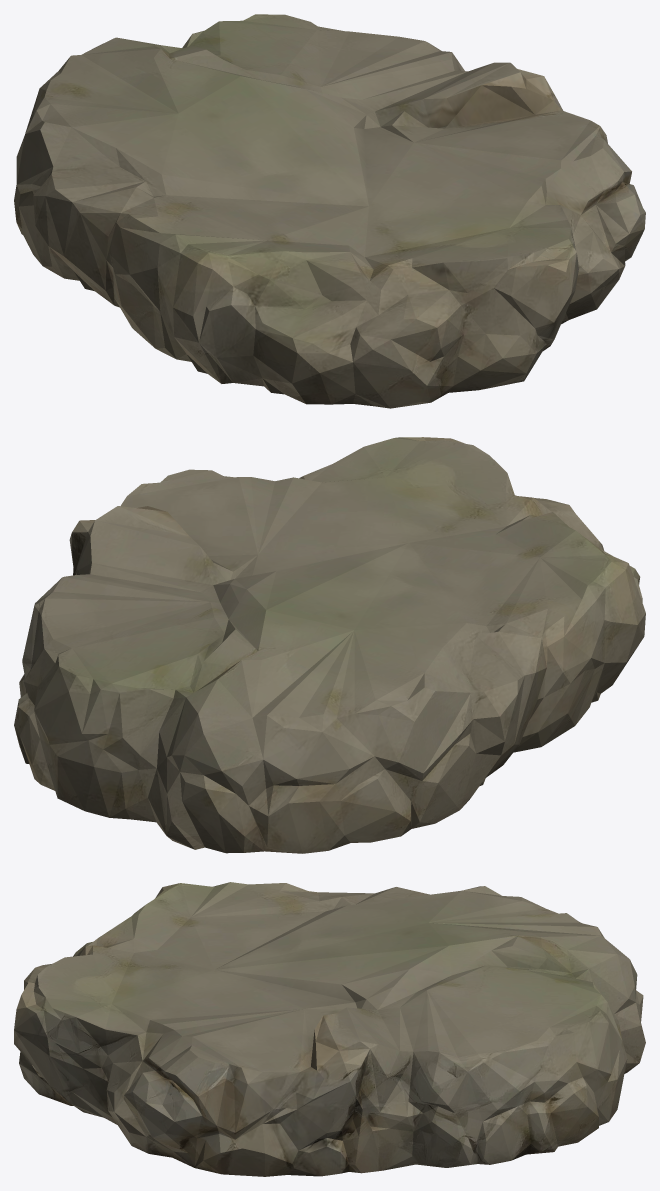
File: bloc_rocheux_couronne.glb
The picture shows the model from 3 angles, top to bottom: view 1: azimuth 30°, elevation 25°; view 2: azimuth 150°, elevation 25°; view 3: azimuth 270°, elevation 25°; orthographic projection. The views are drawn at different scales.
Parts seen in each view (by area): view 1: bloc_rocheux_couronne; view 2: bloc_rocheux_couronne; view 3: bloc_rocheux_couronne.
Boxes of the visible parts, box(x1,y1,x2,y2) form: bloc_rocheux_couronne: box(14, 14, 645, 408); bloc_rocheux_couronne: box(14, 437, 645, 853); bloc_rocheux_couronne: box(14, 882, 645, 1176).
Size of the model in its own units: 1.53 by 0.4658 by 2.
Materials: 1 (1 with a texture image).
